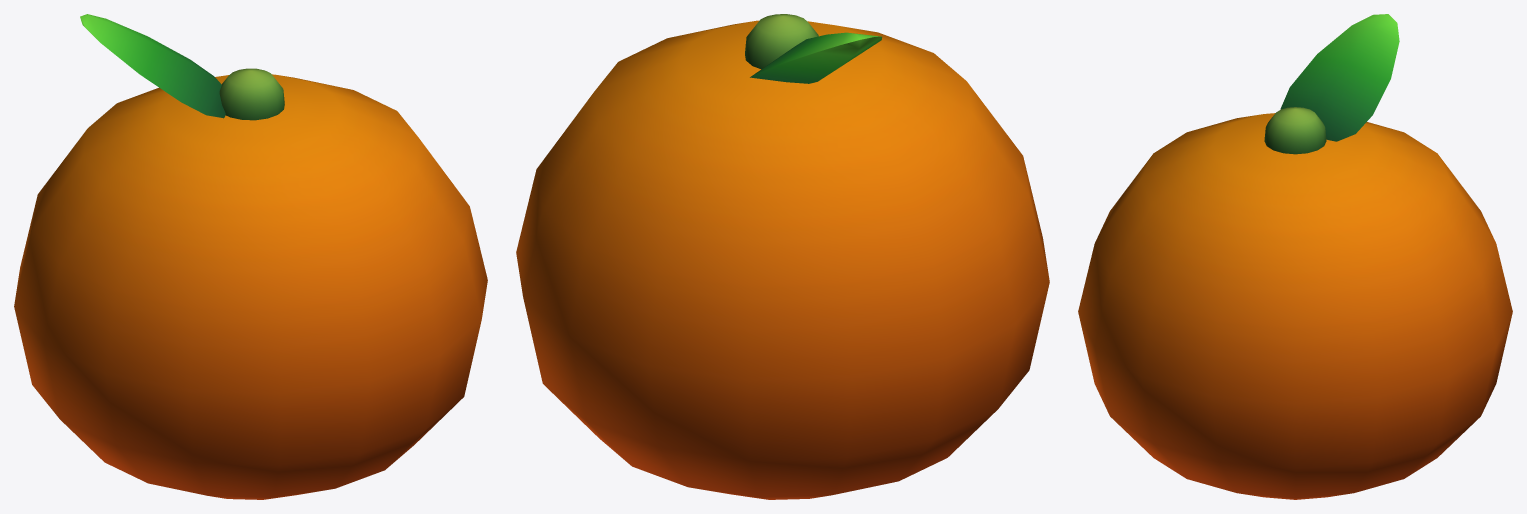
Rendered from Orange_01.glb.
3 renders of one model, left to right at view 1: azimuth 30°, elevation 25°; view 2: azimuth 150°, elevation 25°; view 3: azimuth 270°, elevation 25°, orthographic. The views are drawn at different scales.
Visible parts, largest first — view 1: Orange_01; view 2: Orange_01; view 3: Orange_01.
Part boxes in pixels (x1=…): Orange_01: x1=14, y1=14, x2=487, y2=499; Orange_01: x1=516, y1=14, x2=1049, y2=499; Orange_01: x1=1078, y1=14, x2=1512, y2=499.
Bounding box in the file's own units: 0.272 × 0.2844 × 0.272.
Materials: 1 (1 with a texture image).
